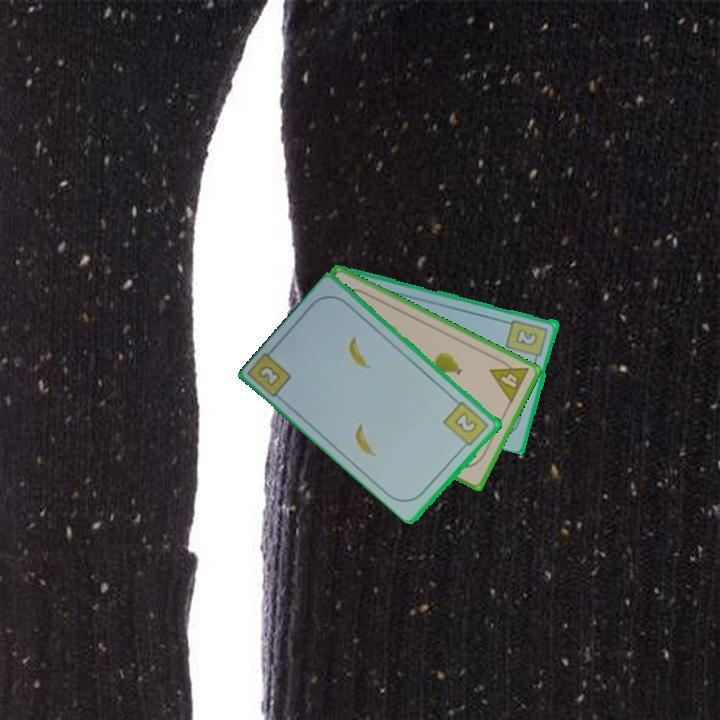2b: (440, 398, 492, 452), (503, 316, 551, 365), (255, 362, 284, 389)
4p: (486, 354, 532, 406)
